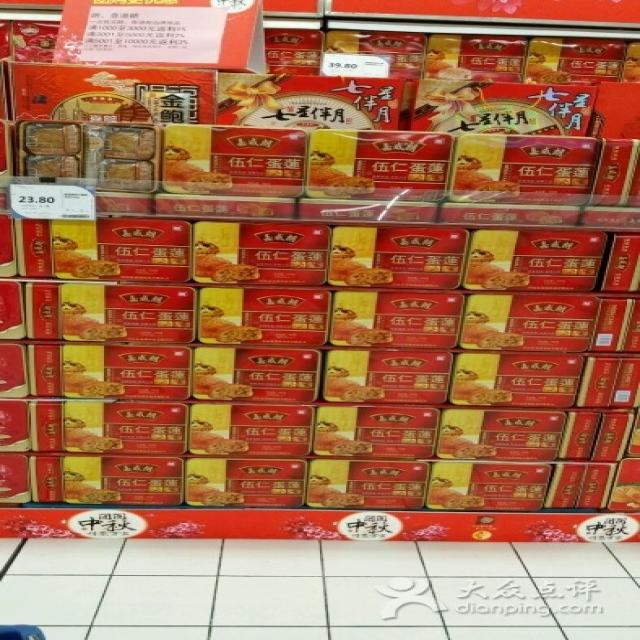box: (10, 62, 216, 125), (13, 215, 191, 283), (447, 133, 601, 205), (161, 123, 309, 197), (11, 120, 161, 193), (214, 73, 406, 130), (305, 129, 456, 201), (409, 79, 596, 136), (465, 229, 609, 292), (193, 220, 330, 286), (328, 227, 469, 289), (60, 282, 197, 343), (460, 294, 599, 352), (328, 292, 466, 347), (450, 353, 586, 408), (198, 288, 331, 344), (192, 347, 323, 401), (322, 351, 455, 404), (62, 346, 192, 400), (435, 409, 567, 462), (60, 402, 187, 455), (188, 403, 314, 456), (314, 406, 442, 458), (307, 458, 430, 510), (426, 462, 554, 510), (184, 459, 309, 507), (63, 457, 184, 506), (422, 33, 528, 82), (325, 30, 426, 80), (525, 37, 627, 85), (154, 194, 294, 219), (590, 137, 640, 206), (440, 204, 583, 227), (299, 199, 440, 222), (266, 28, 323, 76), (590, 298, 635, 353), (599, 234, 640, 293), (590, 412, 637, 462), (575, 357, 621, 408), (557, 412, 603, 461), (543, 462, 588, 507), (26, 283, 60, 341), (578, 463, 616, 509), (28, 346, 62, 397), (32, 402, 62, 453), (31, 456, 63, 503), (612, 358, 640, 409), (580, 206, 640, 229)
